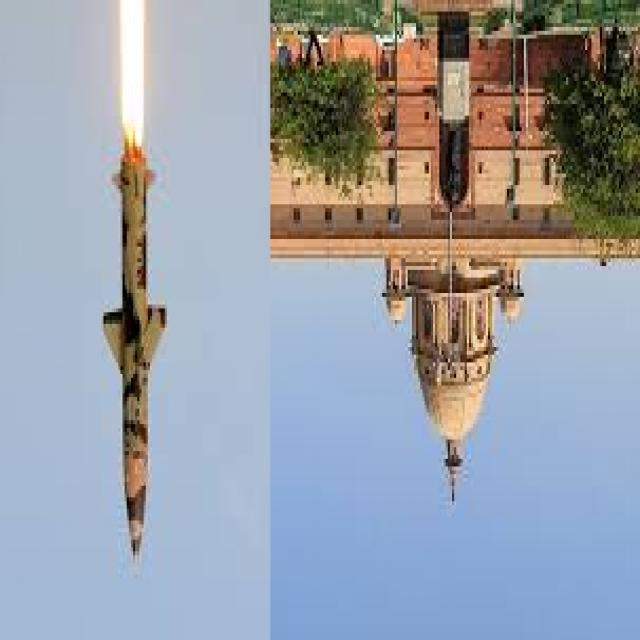Missile: (103, 114, 170, 570)
